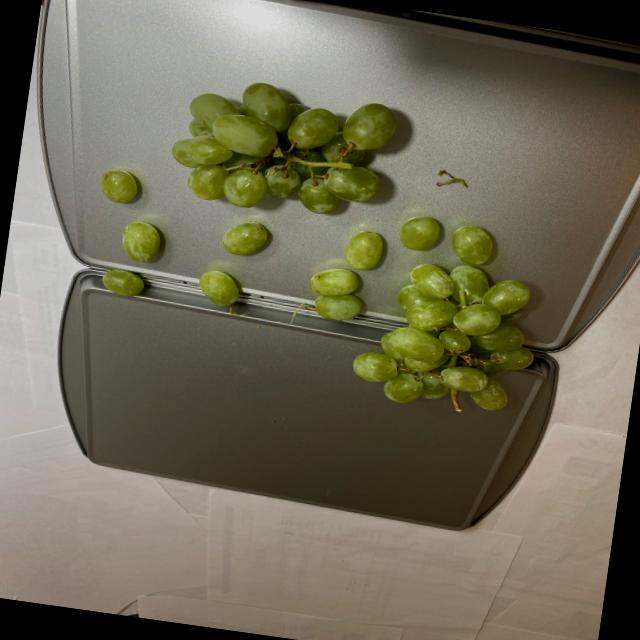grapes: (76, 67, 566, 419)
